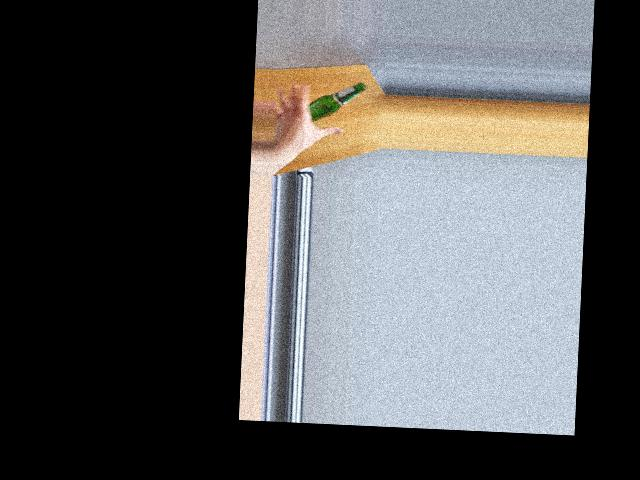beer: (308, 80, 367, 124)
